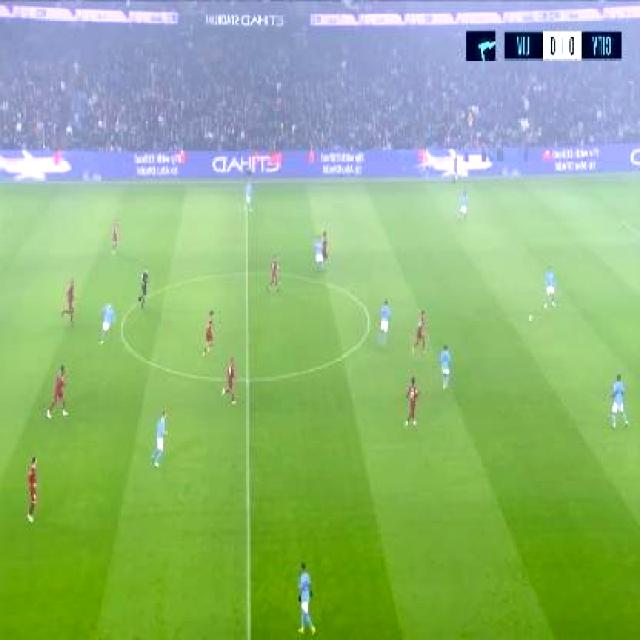bigarea_top_inner: (612, 208, 634, 234)
halfcircle_bottom: (238, 364, 258, 390)
halfcircle_top: (238, 262, 257, 283)
